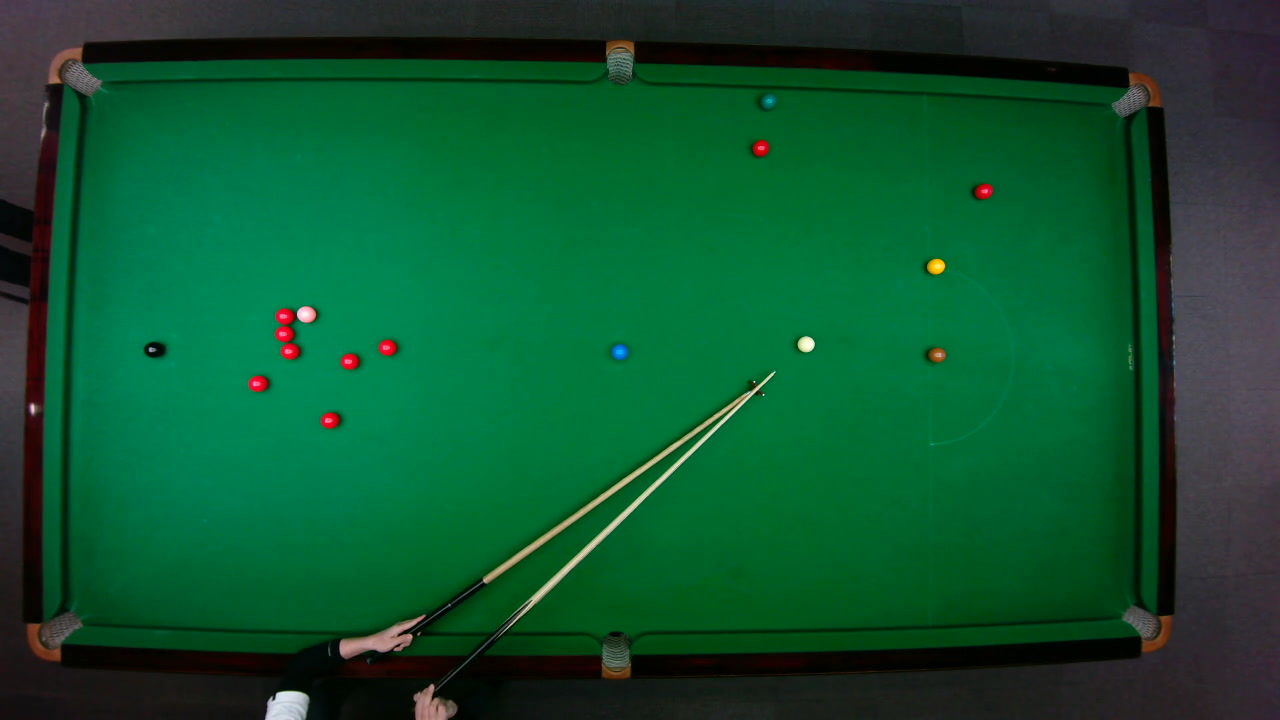bag: (25, 609, 83, 661), (45, 46, 102, 96), (1119, 603, 1172, 652), (1108, 71, 1161, 118), (601, 629, 630, 680), (605, 38, 633, 85)
black: (143, 340, 164, 357)
blue: (610, 342, 628, 360)
brown: (926, 346, 946, 362)
cue: (404, 367, 779, 710)
green: (759, 92, 776, 110)
pink: (294, 304, 317, 323)
red: (318, 410, 340, 429), (246, 374, 269, 392), (750, 138, 770, 157), (273, 306, 294, 324), (278, 342, 300, 359), (972, 182, 994, 199), (272, 325, 294, 342), (377, 338, 397, 356), (339, 351, 359, 369)
white: (796, 334, 815, 352)
yellow: (925, 257, 946, 274)
zone: (927, 266, 1014, 445)
